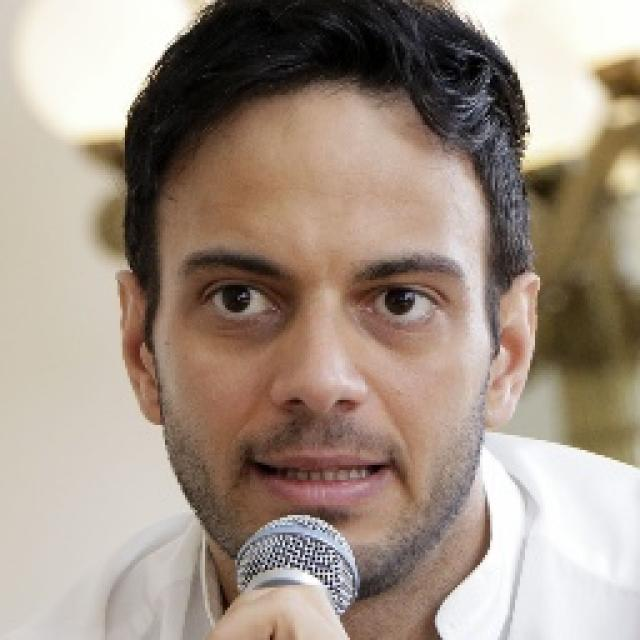earlobe: (134, 380, 163, 426), (485, 385, 514, 429)
eye: (366, 284, 442, 323), (206, 284, 275, 317)
nose: (272, 396, 362, 453)
wholeear: (485, 271, 541, 430), (115, 270, 162, 426)
